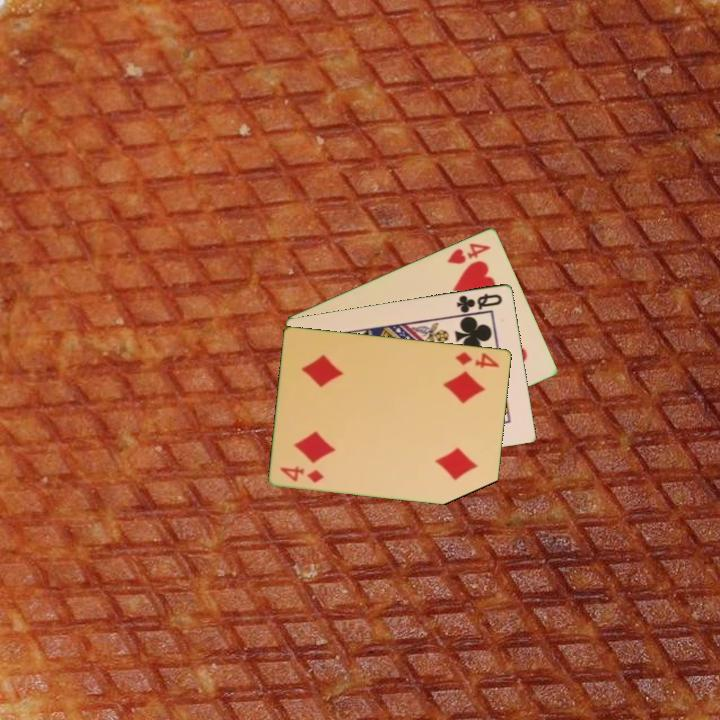4d: (277, 462, 327, 485), (452, 348, 502, 370)
4h: (444, 239, 494, 267)
Qc: (454, 290, 505, 315)
